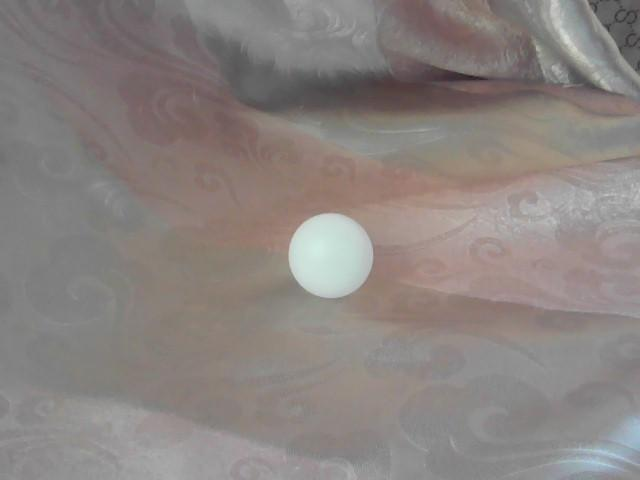ball: (287, 214, 374, 298)
